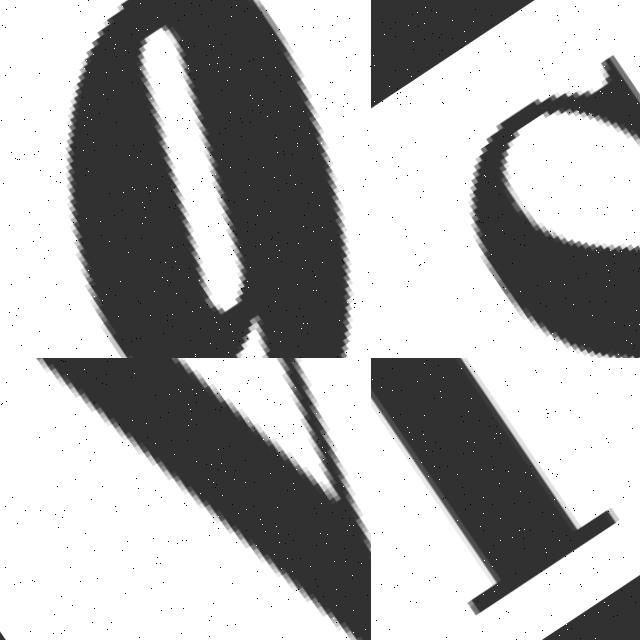9: (0, 0, 371, 358)
S: (395, 16, 640, 358)
T: (371, 358, 640, 640)
V: (0, 358, 371, 640)
